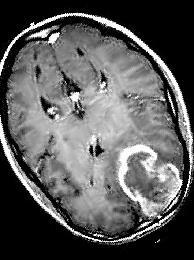Tumor: (107, 144, 188, 218)
